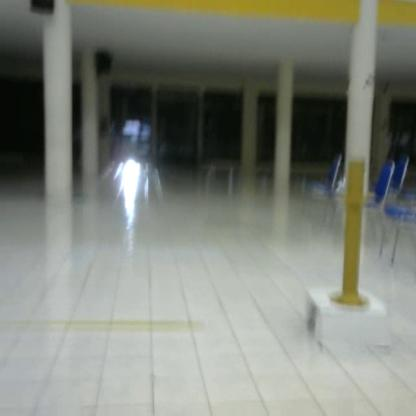pole: (333, 160, 375, 311)
